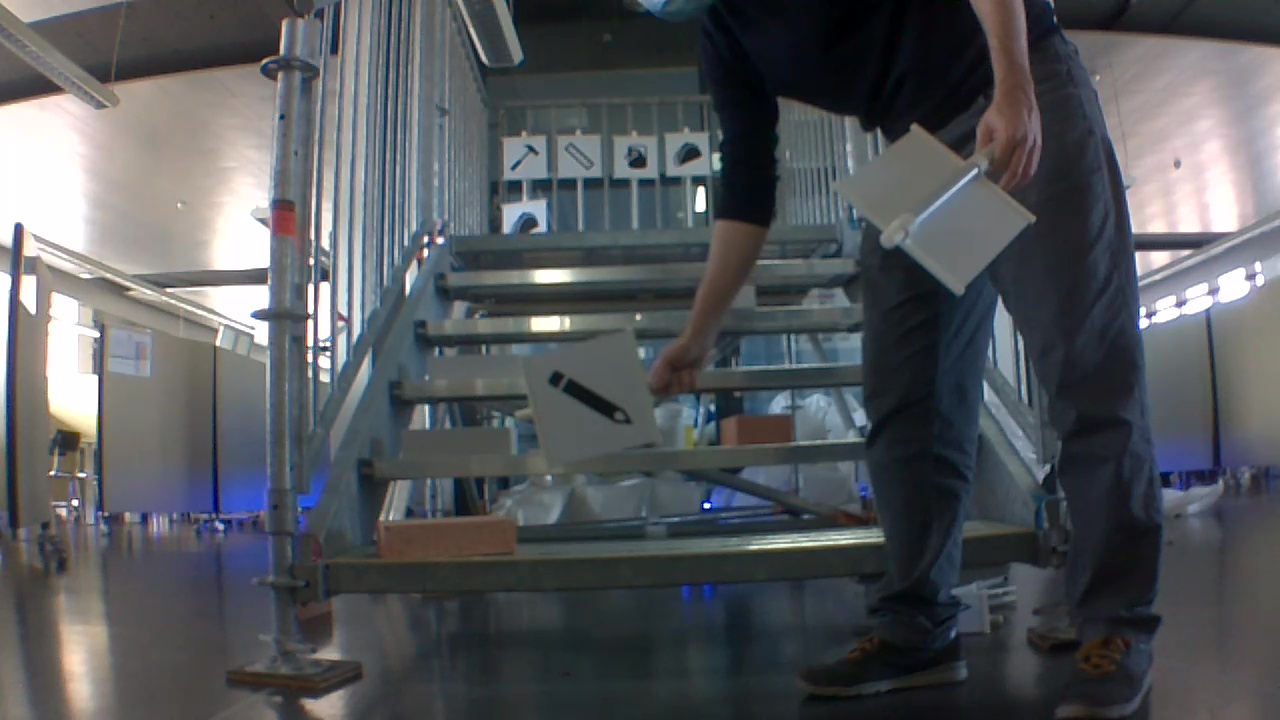brick: (379, 510, 521, 553), (399, 424, 515, 456), (716, 409, 791, 441), (428, 352, 536, 374), (735, 285, 753, 309)
bucket: (622, 141, 652, 172)
edge: (311, 540, 883, 602)
hammer: (508, 140, 542, 172)
pencil: (547, 368, 634, 436)
ruler: (563, 141, 595, 174)
taco: (508, 207, 540, 232), (671, 143, 703, 167)
